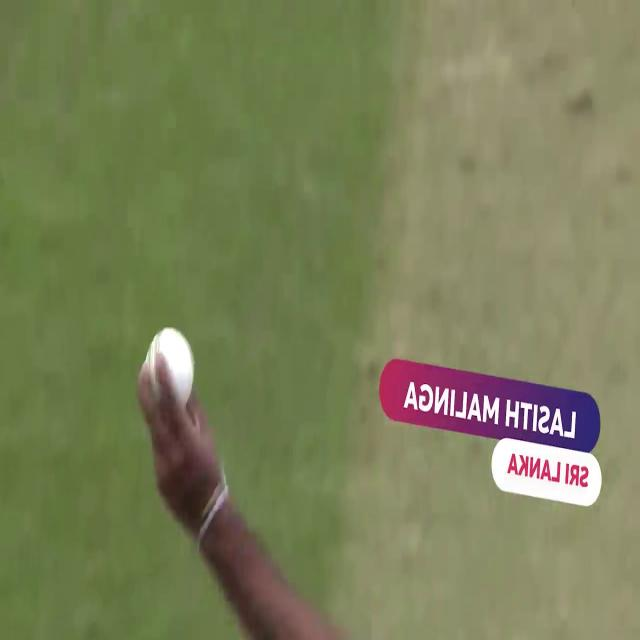ball: (141, 316, 197, 402)
